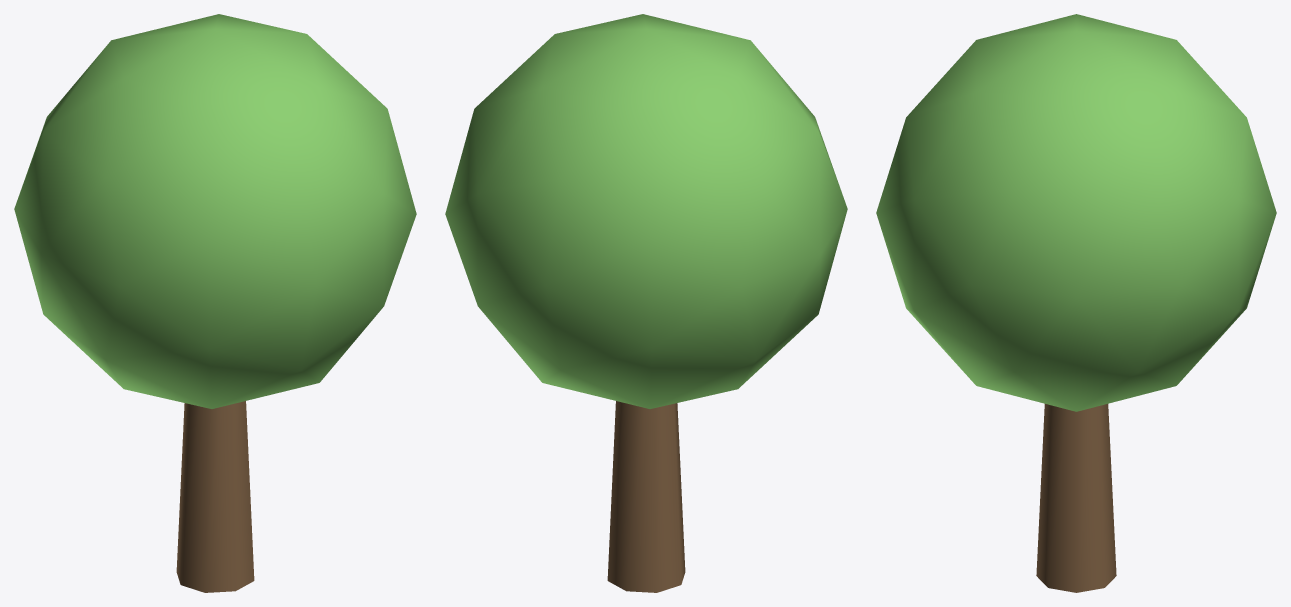
The model's file is tree.glb.
3 views of the same model, side by side, from view 1: azimuth 30°, elevation 25°; view 2: azimuth 150°, elevation 25°; view 3: azimuth 270°, elevation 25° (orthographic).
Visible parts, largest first — view 1: Crown, Trunk; view 2: Crown, Trunk; view 3: Crown, Trunk.
Boxes of the visible parts, x1,y1,x2,y2 form: Crown: [14, 14, 416, 408]; Trunk: [176, 401, 254, 592]; Crown: [445, 14, 847, 408]; Trunk: [607, 401, 685, 592]; Crown: [876, 14, 1276, 411]; Trunk: [1036, 404, 1116, 592].
Bounding box in the file's own units: 2.2 × 3.3 × 2.2.
